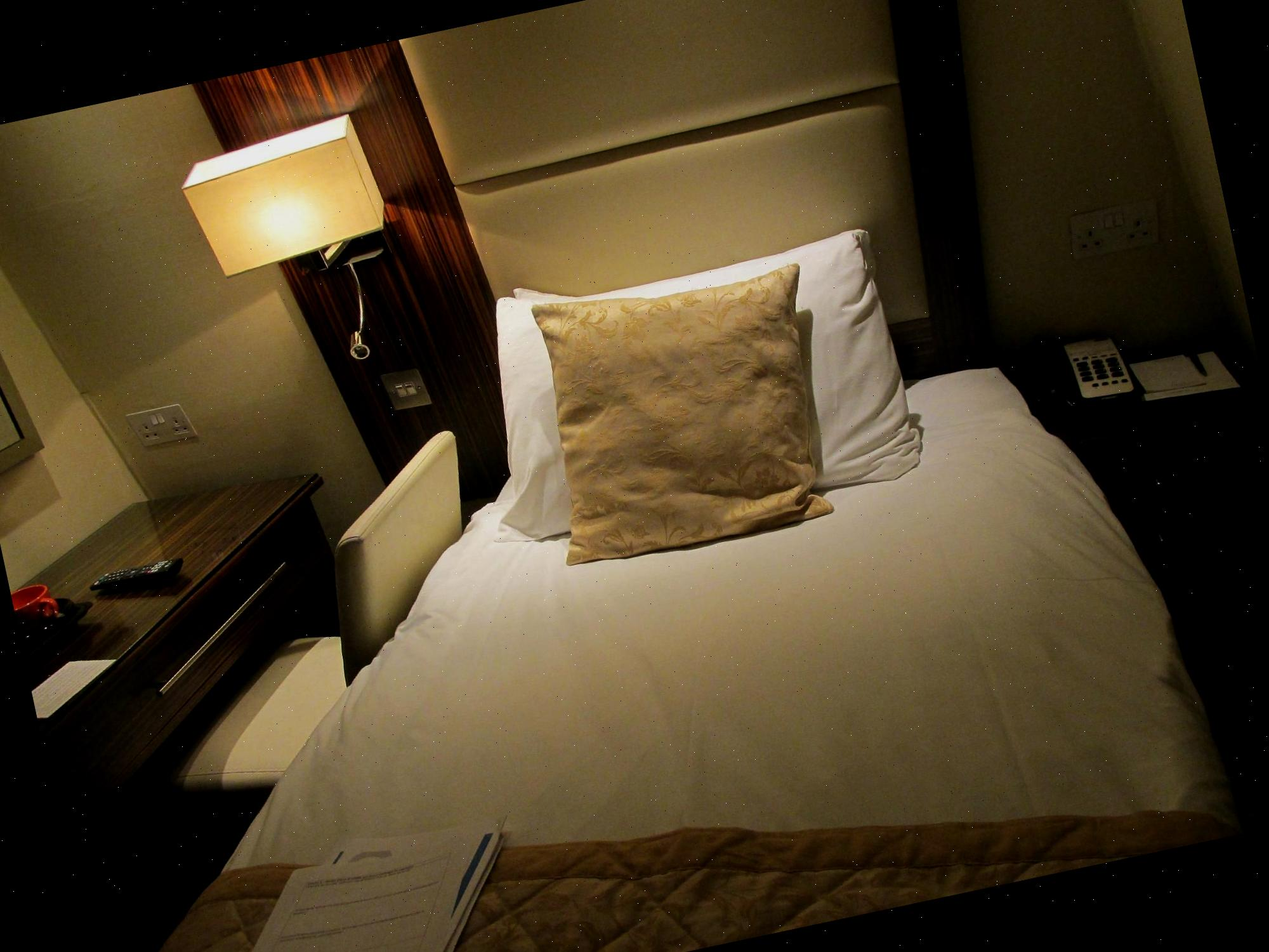chair: (181, 439, 476, 778)
clean_bed: (154, 192, 1234, 952)
lamp: (158, 113, 445, 384)
organised_pillow: (513, 232, 900, 538)
organized table: (11, 474, 336, 815)
